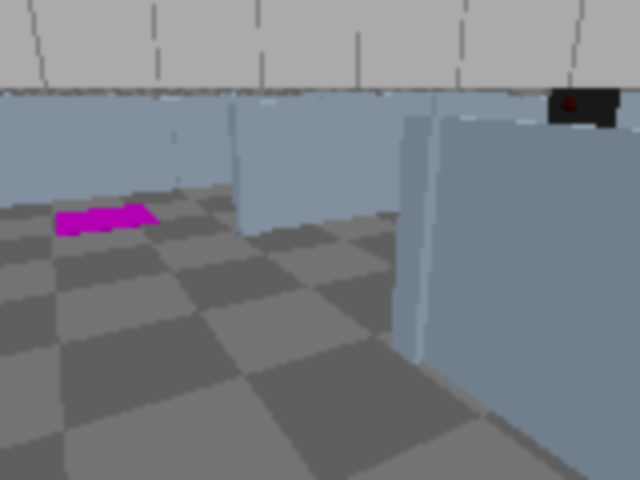goal_zone: (55, 204, 160, 237)
